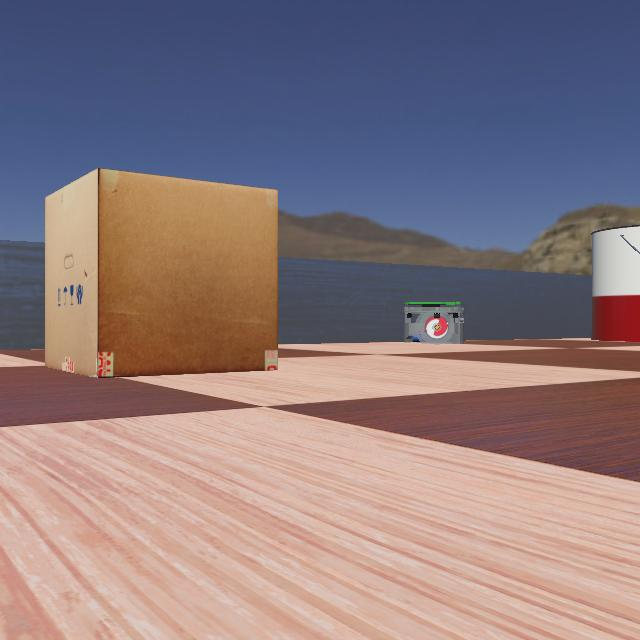cardboard-box: (1, 168, 286, 378)
paint-bucket: (570, 218, 640, 344), (570, 218, 640, 344)
